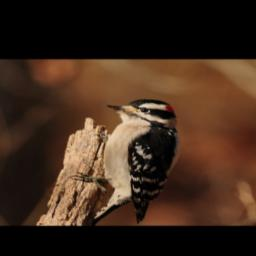Woodpecker: (69, 96, 181, 223)
